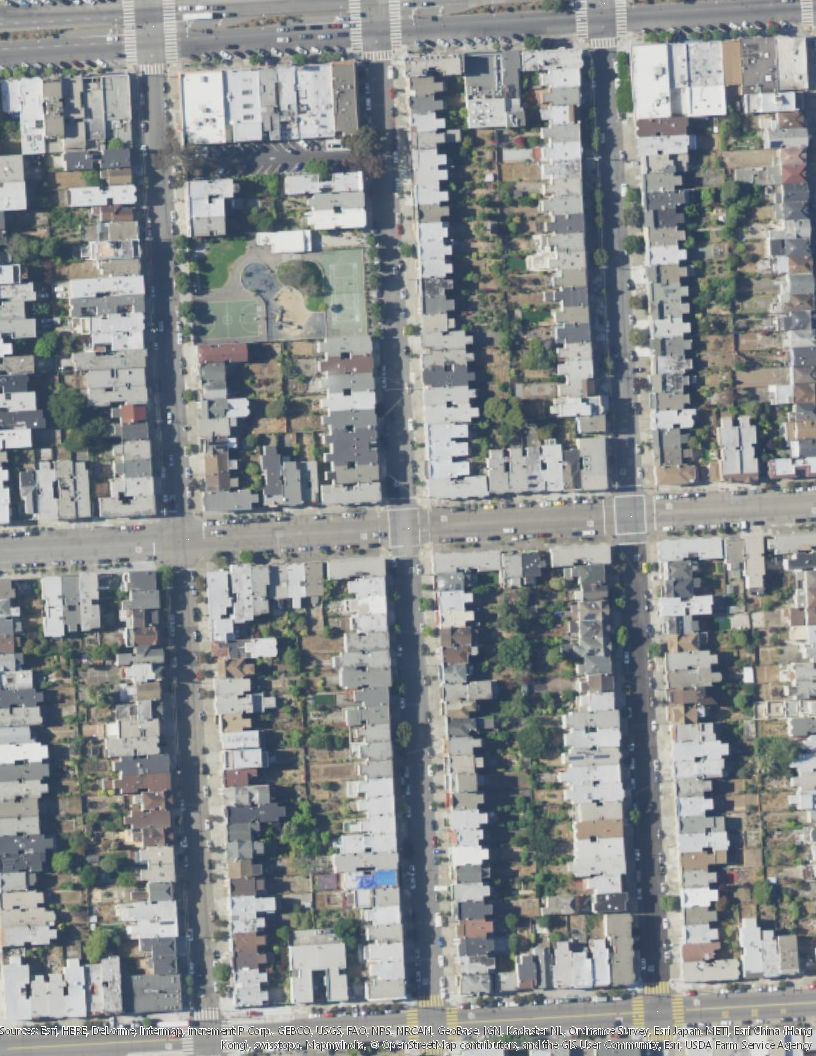zebracross: (160, 1, 180, 68), (120, 1, 138, 65), (346, 1, 364, 54), (386, 1, 401, 53), (574, 1, 590, 39), (630, 993, 647, 1026), (614, 1, 629, 38), (191, 1006, 221, 1024), (447, 1004, 461, 1042), (135, 62, 165, 79), (639, 981, 673, 994), (361, 49, 392, 63), (407, 1009, 419, 1045), (672, 994, 685, 1027), (418, 994, 446, 1008), (801, 1, 814, 26), (593, 38, 617, 51), (181, 1037, 196, 1056)
